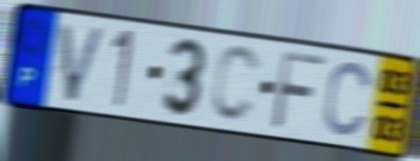1: (110, 28, 136, 111)
3: (162, 34, 208, 120)
C: (208, 43, 263, 126), (321, 58, 376, 140)
F: (268, 48, 329, 134)
V: (56, 19, 109, 105)
